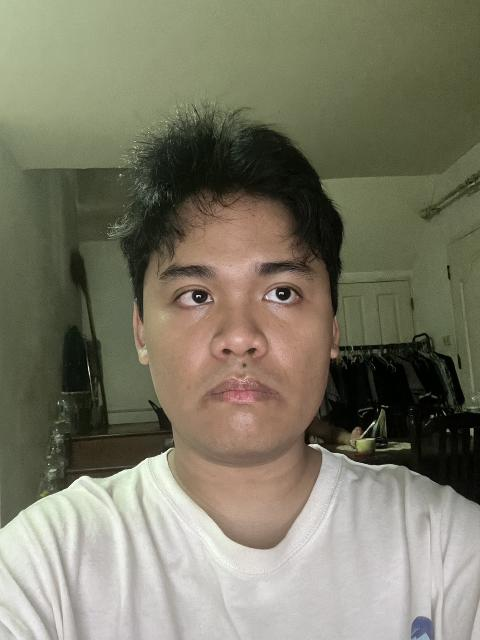fokus: (134, 159, 340, 448)
